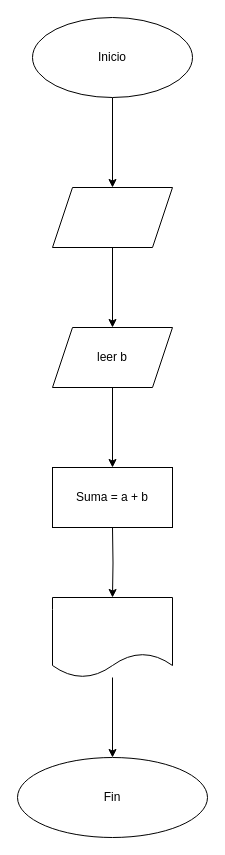
Image size: 225x855. Some labels were removed from this diagram. The shapes that lost their labels are listed below. From the top down, each one's centre as x and y in pixels, then its label:
(112,217): leer a
(112,637): Suma
